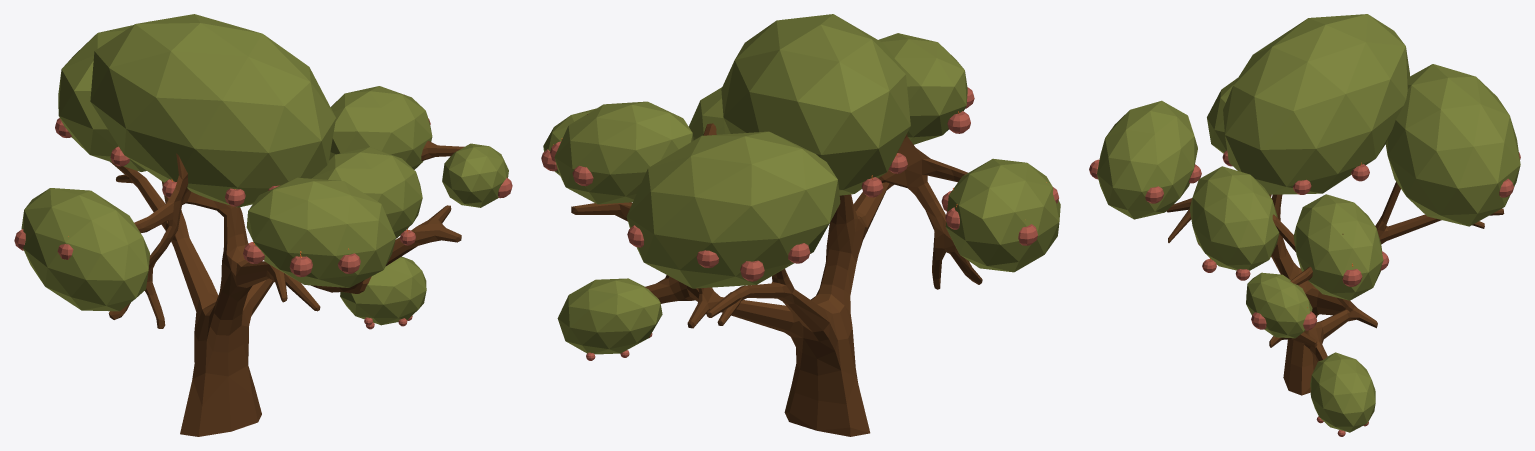
Rendered from tree11.fbx.
The picture shows the model from 3 angles, left to right: view 1: azimuth 30°, elevation 25°; view 2: azimuth 150°, elevation 25°; view 3: azimuth 270°, elevation 25°; orthographic projection. The views are drawn at different scales.
Parts seen in each view (by area): view 1: Plane.082; view 2: Plane.082; view 3: Plane.082.
Boxes of the visible parts, x1,y1,x2,y2 form: Plane.082: (14,14,512,436); Plane.082: (541,14,1060,436); Plane.082: (1089,14,1520,436).
Size of the model in its own units: 3.87 by 3.06 by 3.41.
